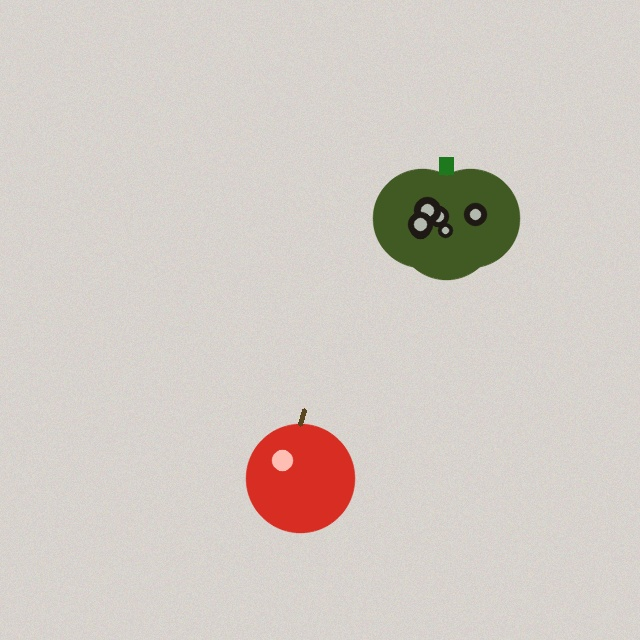Fresh apple: (246, 410, 354, 532)
Rotten bell pepper: (373, 157, 519, 279)
